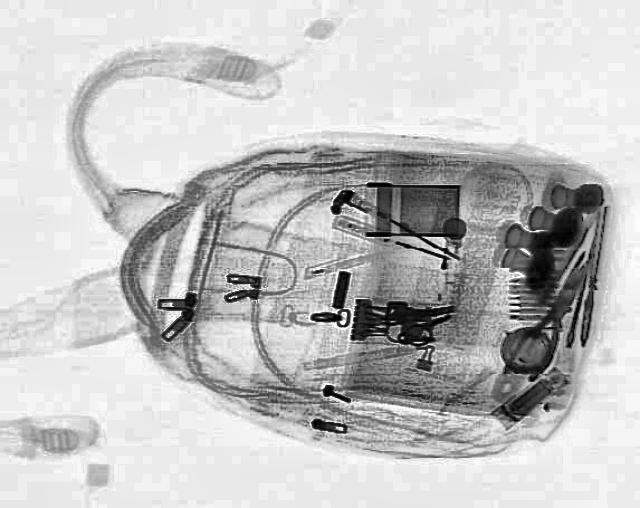Pliers: (498, 264, 600, 384)
